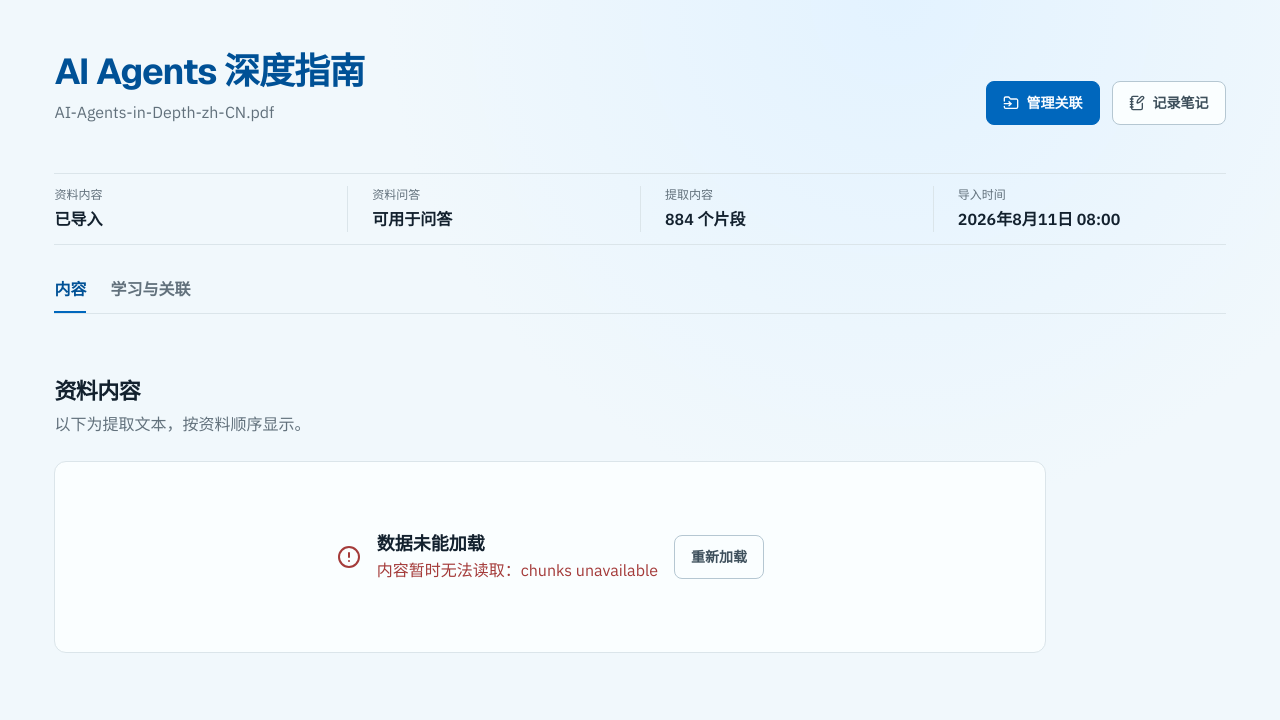
Final UX Batch 3C · safe states and existing CTA contract › chunk error 不让整个详情白屏，并可重试
This screenshot has width=1280, height=720.
Expected: the text "内容暂时无法读取：chunks unavailable" is shown, x1=377 y1=558 x2=658 y2=583
Expected: the heading "AI Agents 深度指南" is shown, x1=54 y1=48 x2=364 y2=95
Click the button "重新加载" at (719, 557), box x1=674 y1=535 x2=764 y2=579
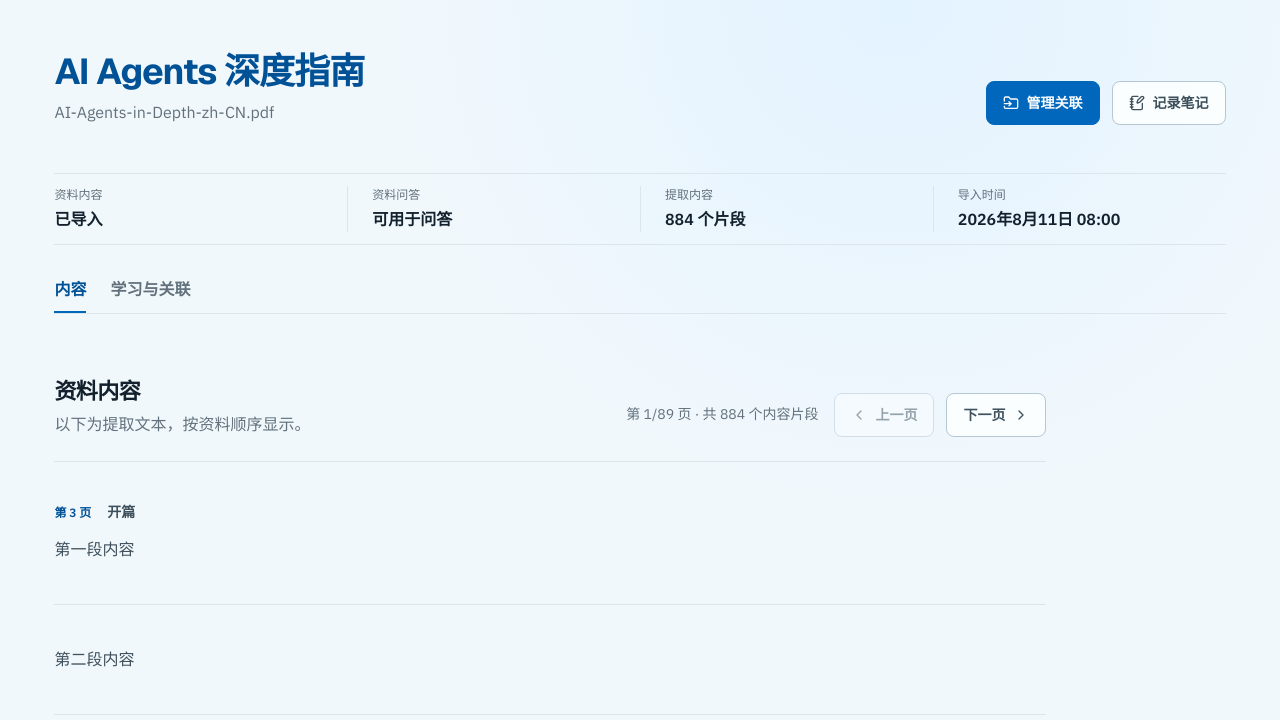
Expected: the text "第一段内容" is shown, x1=54 y1=539 x2=134 y2=559
